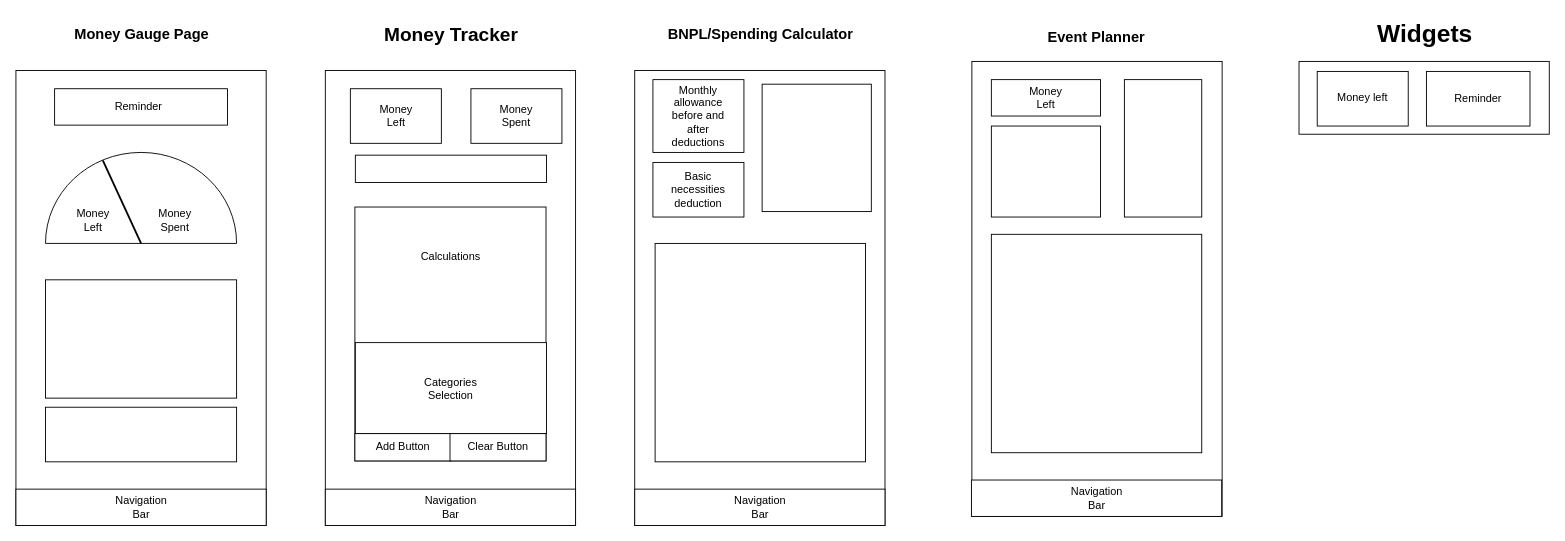
Some shapes in this 1565 by 541 pixel diagram are drawn without their labels. The box of each missing label's shape, as (x1, y1, x2, y2) in pixels:
Agreed events: (990, 125, 1101, 217)
BNPL/Spending Calculator (Interchangeable): (654, 243, 866, 462)
Events: (990, 233, 1202, 453)
Groups: (1123, 79, 1202, 217)
List of current installments/planned spendings: (761, 83, 871, 212)
Spending categories: (45, 279, 237, 398)
Spending categories (Progress Bar style): (354, 154, 546, 182)
Spending goal: (45, 406, 237, 462)
